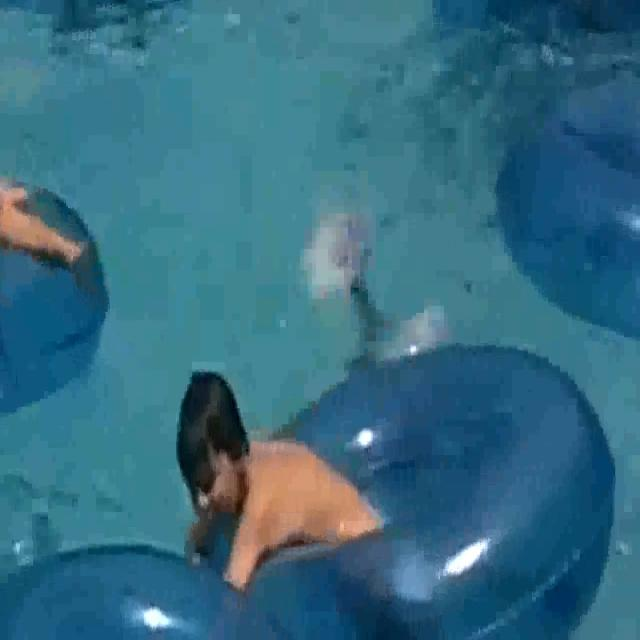Drowning: (323, 224, 441, 361)
Swimming: (175, 370, 383, 589)
